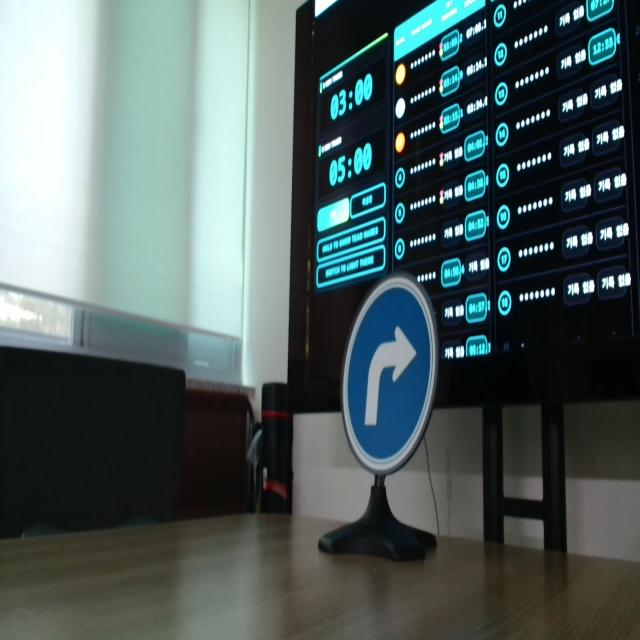right_dierection: (338, 274, 440, 475)
